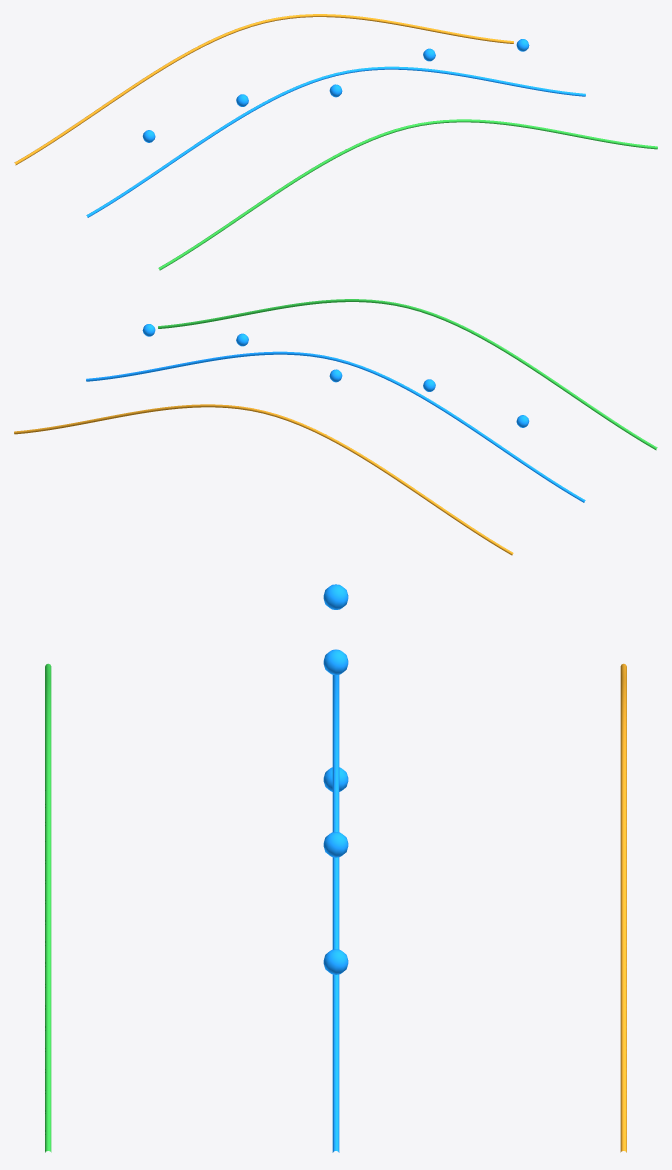
The model's file is energy-lines.glb.
3 views of the same model, one above another, from view 1: azimuth 30°, elevation 25°; view 2: azimuth 150°, elevation 25°; view 3: azimuth 270°, elevation 25° (orthographic). The views are drawn at different scales.
Parts seen in each view (by area): view 1: green power flow arc, yellow alert flow arc, cyan data energy arc; view 2: yellow alert flow arc, green power flow arc, cyan data energy arc; view 3: cyan data energy arc, green power flow arc, yellow alert flow arc.
Part boxes in pixels (box(x1,y1,x2,y2)): green power flow arc: box(158, 119, 657, 270); yellow alert flow arc: box(14, 14, 513, 165); cyan data energy arc: box(86, 66, 585, 217); yellow alert flow arc: box(14, 404, 513, 555); green power flow arc: box(158, 299, 657, 450); cyan data energy arc: box(86, 351, 585, 502); cyan data energy arc: box(332, 675, 339, 1152); green power flow arc: box(45, 663, 51, 1152); yellow alert flow arc: box(620, 663, 626, 1152).
Bounding box in the file's own units: 16.03 × 2.62 × 8.09.
